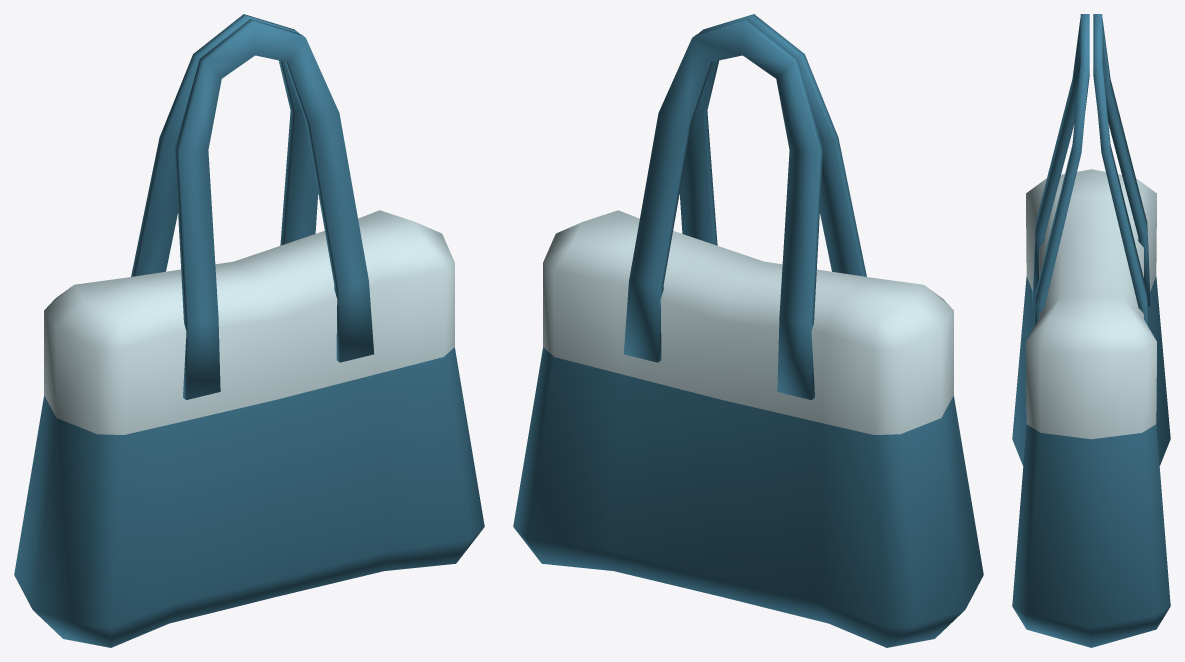
The model's file is 17_prop_bag2.FBX.
3 renders of one model, left to right at view 1: azimuth 30°, elevation 25°; view 2: azimuth 150°, elevation 25°; view 3: azimuth 270°, elevation 25°, orthographic. The views are drawn at different scales.
Visible parts, largest first — view 1: prop_bag2; view 2: prop_bag2; view 3: prop_bag2.
Part boxes in pixels (x1,y1,x2,y2): prop_bag2: [14, 14, 484, 647]; prop_bag2: [513, 14, 983, 647]; prop_bag2: [1012, 14, 1170, 647].
Bounding box in the file's own units: 25.99 × 32.98 × 8.64.
